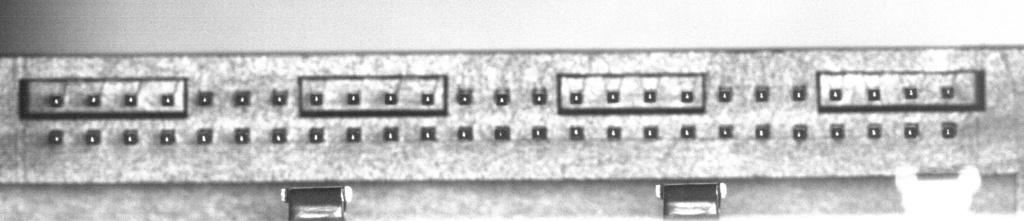pin_ok: (271, 88, 288, 106), (456, 87, 473, 105), (941, 121, 957, 138), (531, 88, 548, 104), (494, 88, 510, 105), (234, 90, 251, 106), (904, 123, 920, 139), (196, 128, 212, 144), (197, 90, 213, 106), (717, 86, 733, 102), (48, 130, 64, 145), (84, 129, 100, 144), (159, 129, 175, 144), (234, 128, 250, 143), (271, 128, 287, 143), (830, 124, 845, 140), (345, 127, 361, 142), (420, 126, 436, 141), (531, 125, 547, 140), (309, 127, 324, 143), (754, 86, 770, 101), (494, 126, 511, 140), (123, 129, 138, 144), (792, 125, 807, 140), (867, 124, 882, 139), (755, 124, 770, 139), (718, 125, 734, 139), (680, 125, 696, 139), (643, 125, 659, 139), (383, 127, 399, 141), (792, 85, 806, 101), (457, 126, 472, 140), (569, 126, 584, 140), (421, 91, 436, 105), (606, 126, 622, 139), (941, 85, 955, 99), (643, 89, 657, 103), (680, 89, 694, 103), (867, 87, 881, 101), (160, 93, 175, 106), (903, 86, 918, 99), (828, 88, 843, 101), (86, 93, 100, 106), (569, 91, 583, 104), (346, 92, 360, 105), (309, 92, 323, 105), (606, 90, 620, 103), (124, 93, 137, 106), (384, 91, 397, 104), (49, 95, 62, 107)
